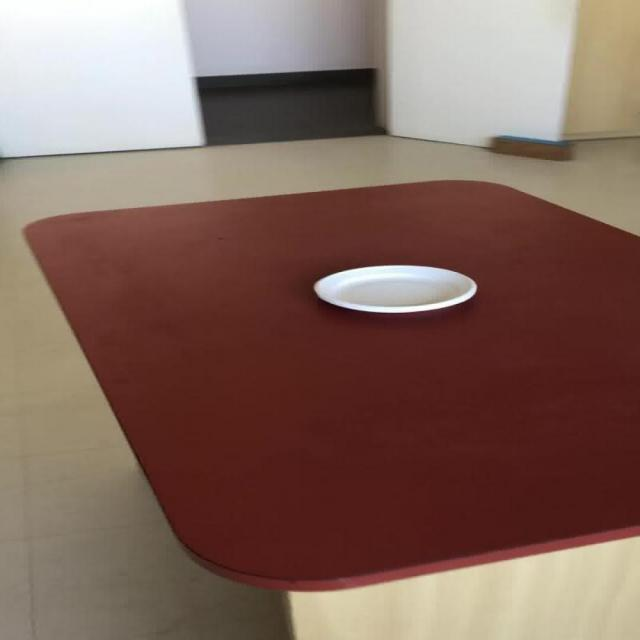Plate: (312, 264, 476, 314)
